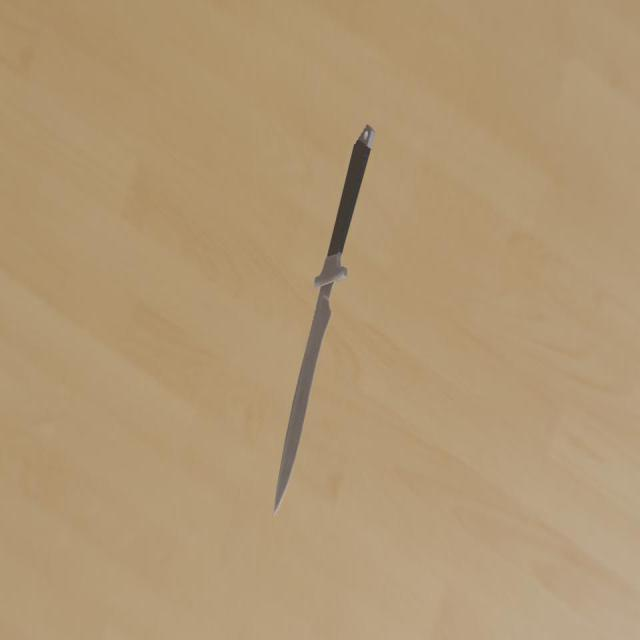knife: (327, 126, 375, 256)
